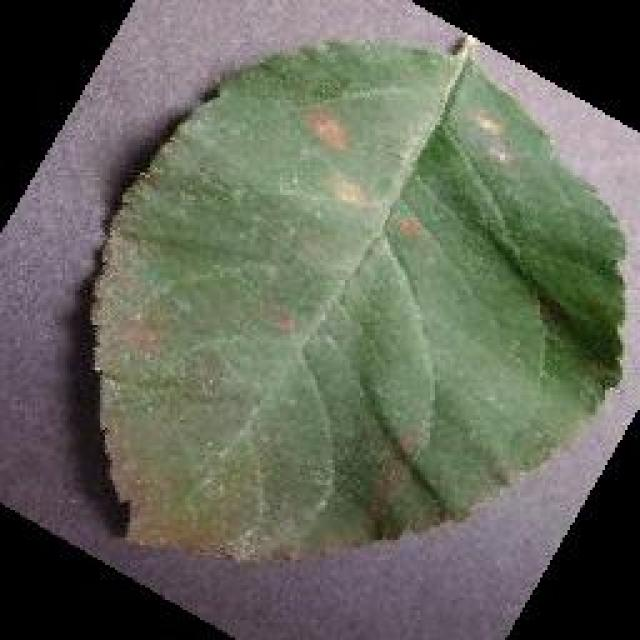apple rust disease: (82, 32, 628, 562)
